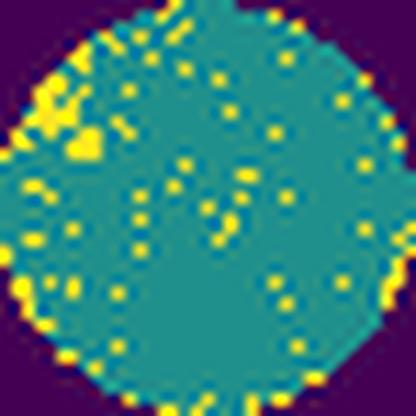Edge-Loc: (0, 73, 105, 167)
